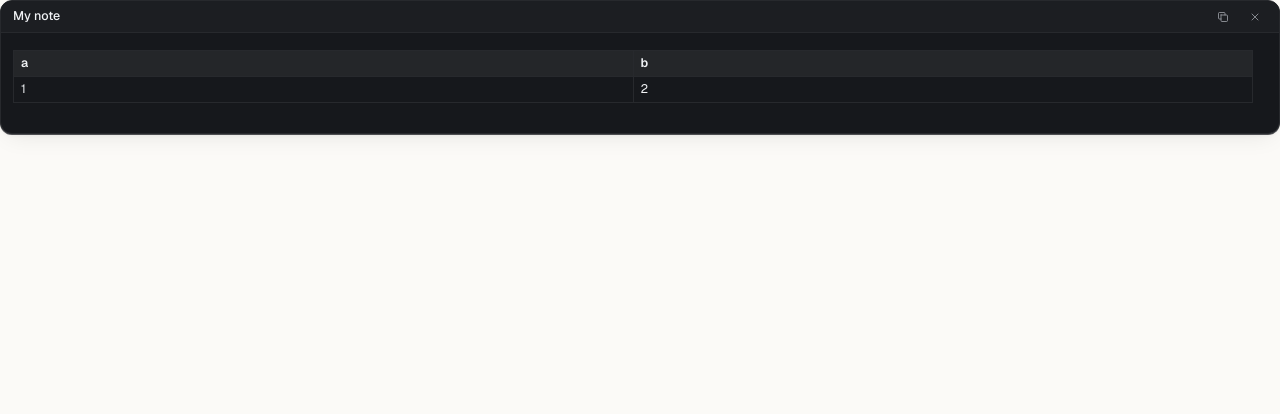
Scenario: NoteNode › offers row and column edits on right-click, without opening the note menu
Right-click the cell with class "cm-md-table-cell" showing "1" at (323, 89), box [14, 76, 633, 102]
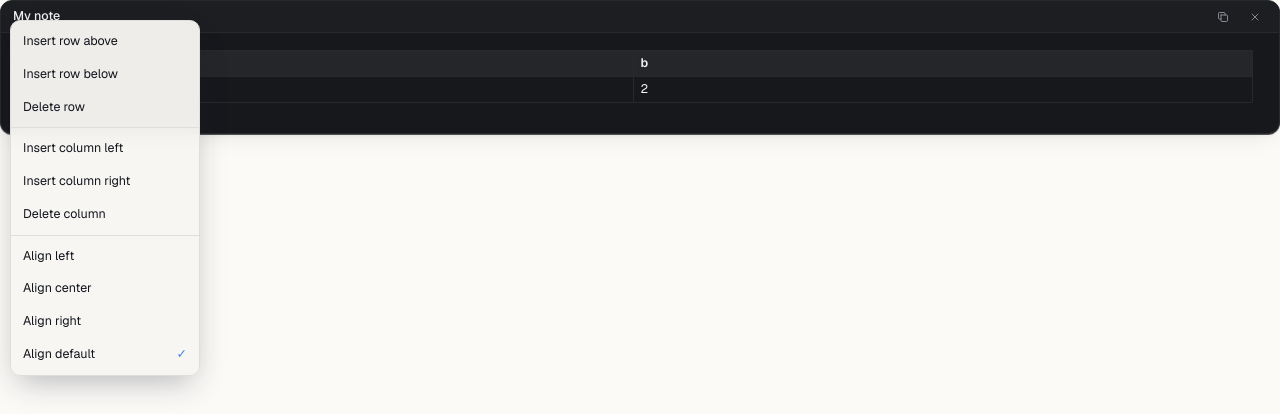
Expected: the button "Delete row" is shown
Click the button "Delete row" at (105, 107), box [11, 90, 199, 123]
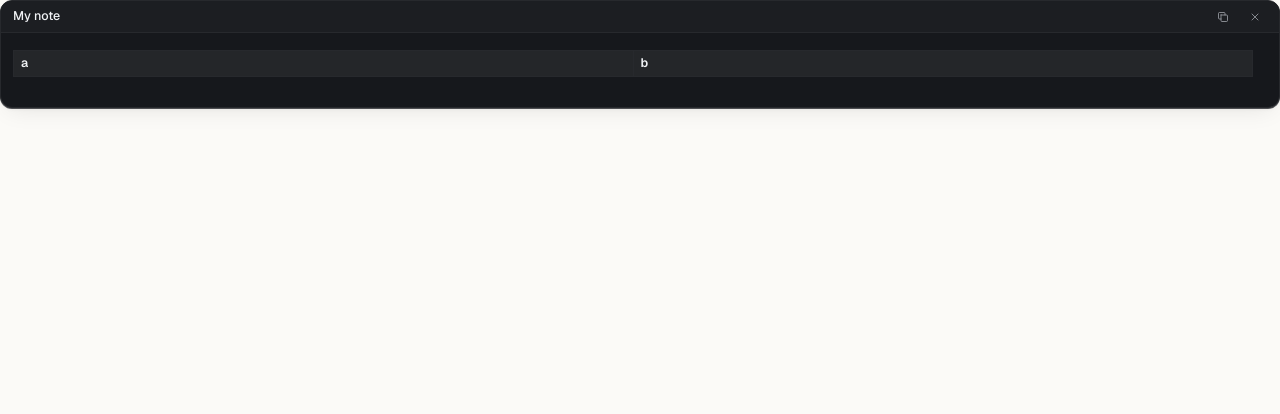
Expected: the button "Delete row" is gone
